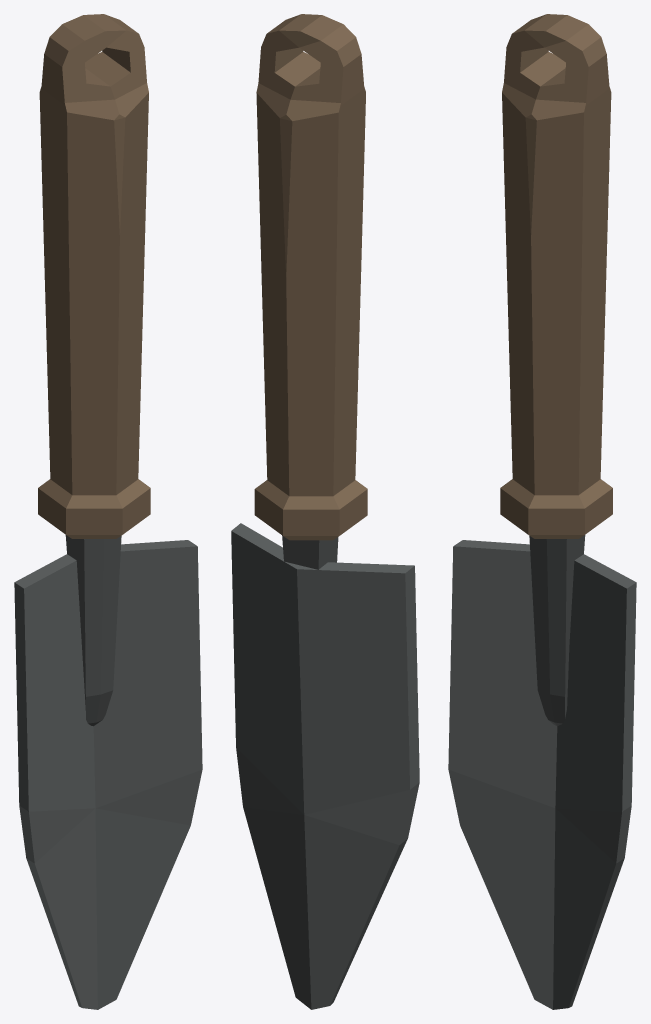
The model's file is SM_Props_Farm_Tool_HandTrowel_Small.fbx.
3 renders of one model, left to right at view 1: azimuth 30°, elevation 25°; view 2: azimuth 150°, elevation 25°; view 3: azimuth 330°, elevation 25°, orthographic.
Visible parts, largest first — view 1: SM_Props_Farm_Tool_HandTrowel_Small; view 2: SM_Props_Farm_Tool_HandTrowel_Small; view 3: SM_Props_Farm_Tool_HandTrowel_Small.
Part boxes in pixels (bbox=[...]): SM_Props_Farm_Tool_HandTrowel_Small: bbox=[14, 14, 202, 1009]; SM_Props_Farm_Tool_HandTrowel_Small: bbox=[231, 14, 419, 1009]; SM_Props_Farm_Tool_HandTrowel_Small: bbox=[448, 14, 636, 1009].
Bounding box in the file's own units: 11.19 × 60.6 × 6.29.
